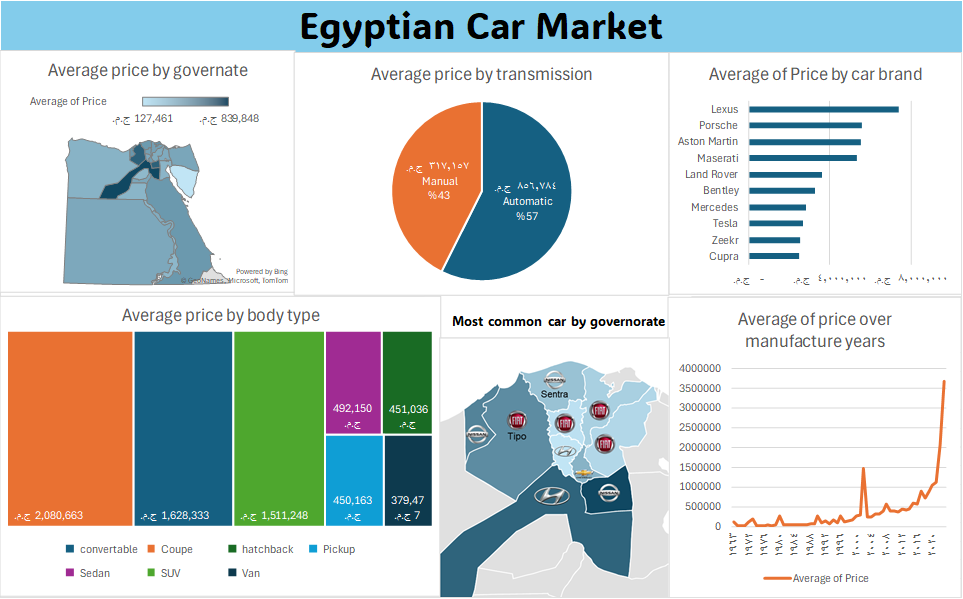

The dashboard page shown, as its layout file describes it:
{"tool":"powerbi","page":{"name":"Page 1","canvas":[1280,720],"ordinal":0},"visuals":[{"type":"pieChart","fields":{"Category":["merged_cars.Trasmission"],"Y":["Avg(merged_cars.Price)"]},"box":[415,0,447.5,310],"z":0},{"type":"clusteredBarChart","fields":{"Category":["merged_cars.Brand"],"Y":["Avg(merged_cars.Price)"]},"box":[872.5,0,407.5,310],"z":1},{"type":"treemap","fields":{"Group":["merged_cars.Body"],"Values":["Avg(merged_cars.Price)"]},"box":[0,310,568,410],"z":2},{"type":"lineChart","fields":{"Category":["merged_cars.Year"],"Y":["Avg(merged_cars.Price)"]},"box":[568,310,712,410],"z":3},{"type":"filledMap","title":"Average of Price by governorate","fields":{"Category":["merged_cars.governorate"],"Series":["merged_cars.governorate"]},"box":[0,0,437.5,310],"z":4},{"type":"actionButton","box":[0,0,100,40],"z":5}]}

Visuals, with their boxes on the page's 1280x720 design canvas (x1, y1, x2, y2). These are canvas units, not pixel positions in the 963x599 screenshot, which may show the page scaled, cropped or inside an application window:
pieChart - merged_cars.Trasmission x Avg(merged_cars.Price): x1=415, y1=0, x2=862, y2=310
clusteredBarChart - merged_cars.Brand x Avg(merged_cars.Price): x1=872, y1=0, x2=1280, y2=310
treemap - merged_cars.Body x Avg(merged_cars.Price): x1=0, y1=310, x2=568, y2=720
lineChart - merged_cars.Year x Avg(merged_cars.Price): x1=568, y1=310, x2=1280, y2=720
"Average of Price by governorate" filledMap: x1=0, y1=0, x2=438, y2=310
actionButton: x1=0, y1=0, x2=100, y2=40
